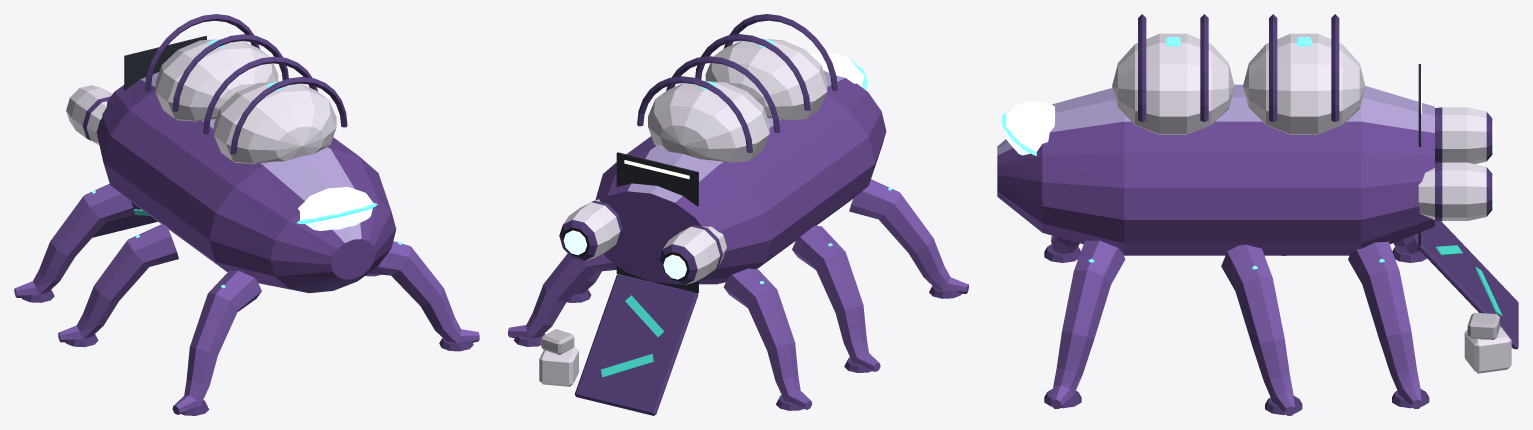
Rendered from aby-f_offen.glb.
3 views of the same model, side by side, from view 1: azimuth 30°, elevation 25°; view 2: azimuth 150°, elevation 25°; view 3: azimuth 270°, elevation 25° (orthographic). The views are drawn at different scales.
Visible parts, largest first — view 1: unterrumpf, frachtmodul_1, frachtmodul_2, landebein_2, landebein_4, landebein_6, landebein_1, cockpit, sicherung_1, sicherung_2, triebwerk_r, laderaum (+1 smaller); view 2: unterrumpf, rampe, frachtmodul_2, frachtmodul_1, landebein_4, landebein_6, landebein_2, landebein_5, triebwerk_r, triebwerk_l, laderaum, sicherung_2 (+3 smaller); view 3: unterrumpf, frachtmodul_2, frachtmodul_1, landebein_3, landebein_1, landebein_5, rampe, triebwerk_l, triebwerk_r, ladung, cockpit, sicherung_2 (+3 smaller).
Part boxes in pixels (bbox=[...]): unterrumpf: bbox=[97, 72, 396, 293]; frachtmodul_1: bbox=[214, 81, 336, 164]; frachtmodul_2: bbox=[155, 39, 278, 121]; landebein_2: bbox=[172, 270, 261, 415]; landebein_4: bbox=[58, 224, 178, 347]; landebein_6: bbox=[14, 184, 134, 302]; landebein_1: bbox=[368, 241, 479, 351]; cockpit: bbox=[296, 187, 377, 230]; sicherung_1: bbox=[203, 56, 347, 154]; sicherung_2: bbox=[144, 14, 288, 111]; triebwerk_r: bbox=[66, 85, 112, 144]; laderaum: bbox=[124, 36, 206, 90]; unterrumpf: bbox=[595, 70, 886, 284]; rampe: bbox=[574, 274, 698, 415]; frachtmodul_2: bbox=[648, 81, 769, 162]; frachtmodul_1: bbox=[705, 39, 827, 120]; landebein_4: bbox=[792, 225, 880, 372]; landebein_6: bbox=[723, 268, 812, 410]; landebein_2: bbox=[849, 179, 968, 298]; landebein_5: bbox=[508, 253, 616, 346]; triebwerk_r: bbox=[659, 225, 726, 285]; triebwerk_l: bbox=[559, 199, 622, 260]; laderaum: bbox=[616, 152, 698, 293]; sicherung_2: bbox=[637, 56, 780, 153]; unterrumpf: bbox=[997, 84, 1434, 255]; frachtmodul_2: bbox=[1243, 33, 1365, 134]; frachtmodul_1: bbox=[1112, 33, 1234, 134]; landebein_3: bbox=[1221, 244, 1302, 415]; landebein_1: bbox=[1044, 240, 1125, 408]; landebein_5: bbox=[1348, 241, 1429, 408]; rampe: bbox=[1418, 220, 1518, 349]; triebwerk_l: bbox=[1418, 162, 1495, 220]; triebwerk_r: bbox=[1435, 107, 1495, 164]; ladung: bbox=[1464, 312, 1511, 373]; cockpit: bbox=[1002, 101, 1055, 155]; sicherung_2: bbox=[1269, 14, 1339, 121].
Bounding box in the file's own units: 0.1309 × 0.1036 × 0.1592.
